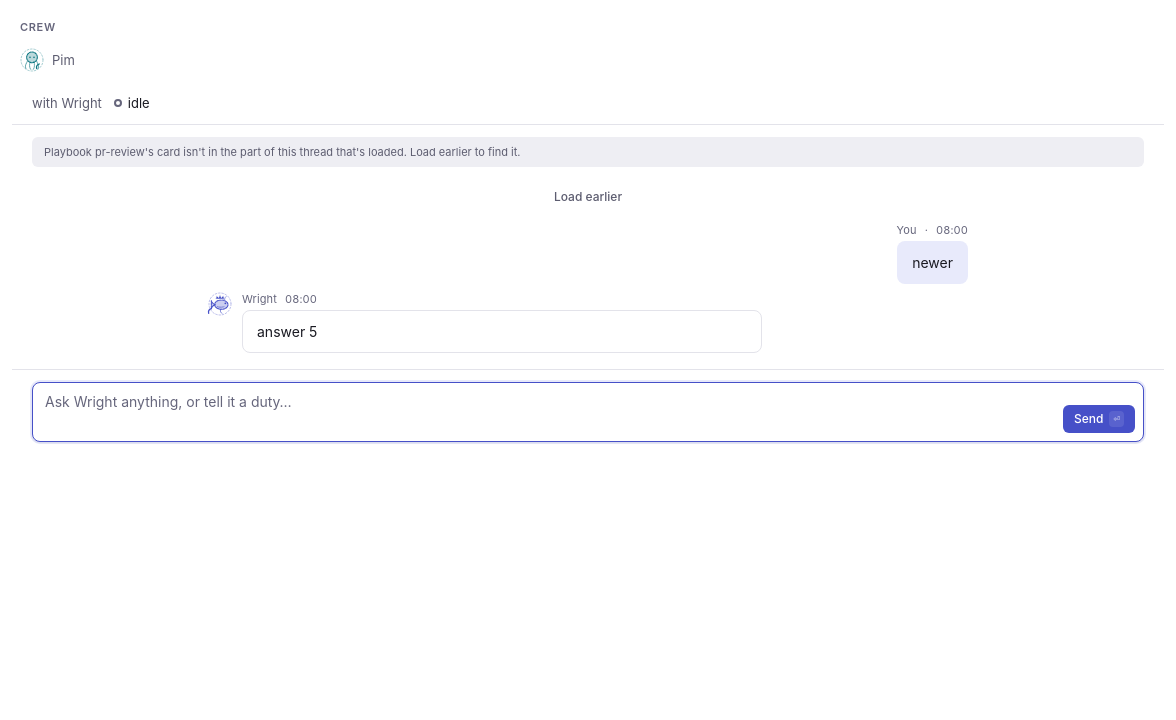
Test: #/chat?playbook=<id>: scroll to the playbook's card › a card older than the loaded pages puts focus that fell to <body> on Load earlier; the page it brings takes nothing back
This screenshot has width=1176, height=720.
Expected: the message with test id "chat-card-missing" is shown, [32,137,1144,167]
Click the button "Load earlier": [588, 197] box [543,183,633,211]
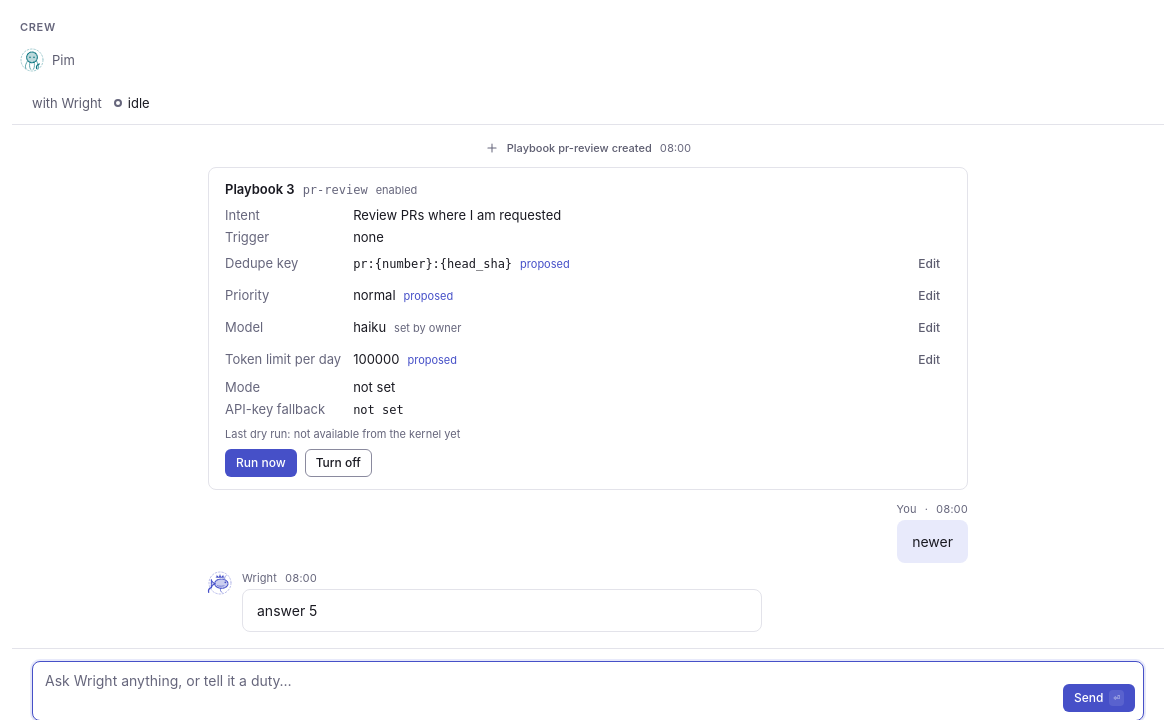
Expected: the element named "Playbook pr-review" is shown, [208,167,968,490]
